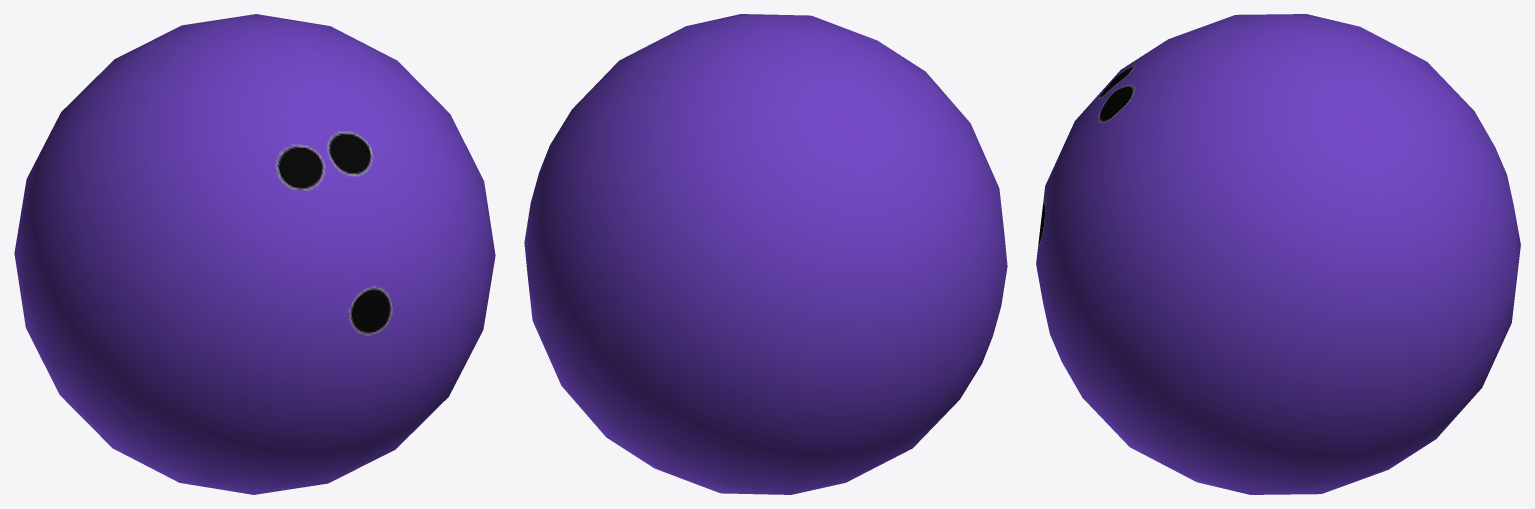
File: Ball.obj
3 views of the same model, side by side, from view 1: azimuth 30°, elevation 25°; view 2: azimuth 150°, elevation 25°; view 3: azimuth 270°, elevation 25° (orthographic).
Parts seen in each view (by area): view 1: Ball_Mesh.002; view 2: Ball_Mesh.002; view 3: Ball_Mesh.002.
Boxes of the visible parts, left/top/right/bottom form: Ball_Mesh.002: left=14, top=14, right=495, bottom=494; Ball_Mesh.002: left=524, top=14, right=1007, bottom=494; Ball_Mesh.002: left=1036, top=14, right=1520, bottom=494.
Size of the model in its own units: 0.2123 by 0.2132 by 0.2123.
1 material, 1 textured.
